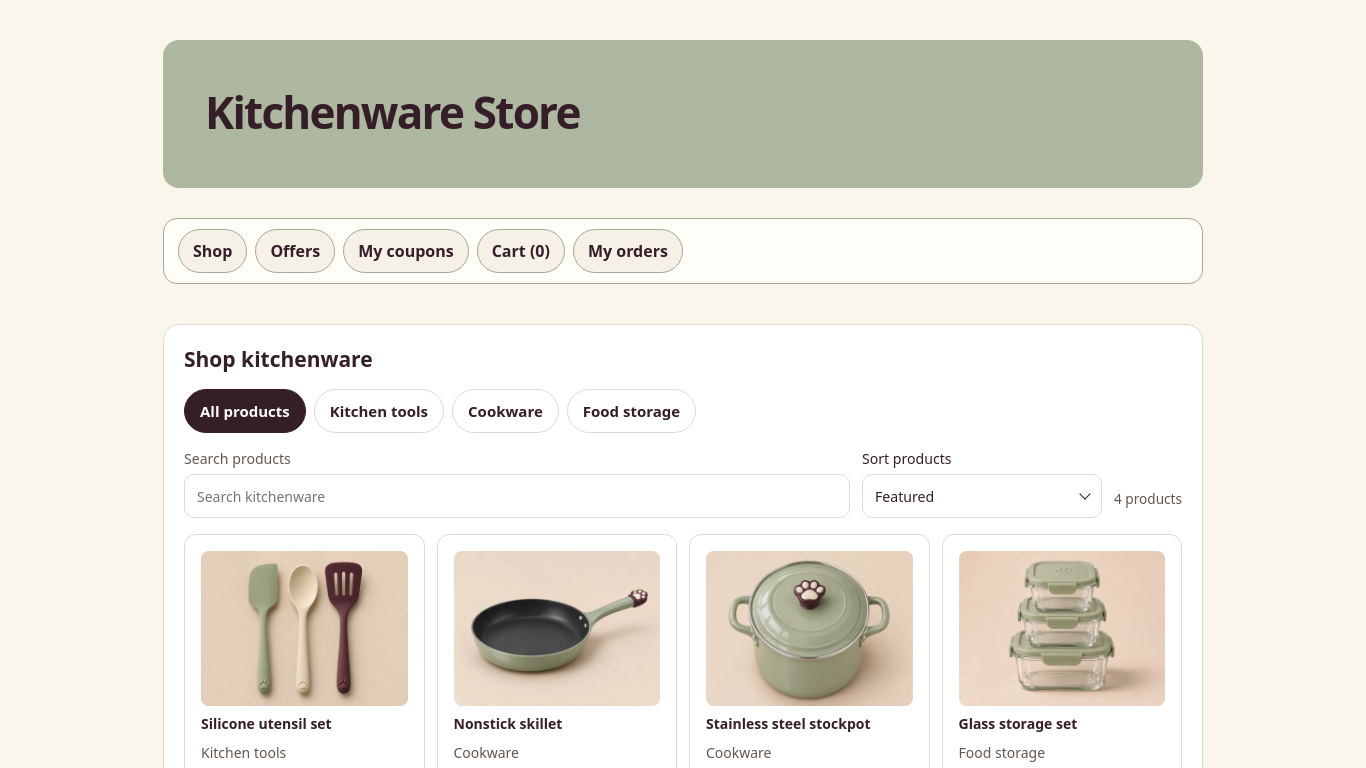
shows product specifications and adds the item from its detail dialog
Click the button with aria-label "View Nonstick skillet details" at (557, 642), box [454,551,660,733]
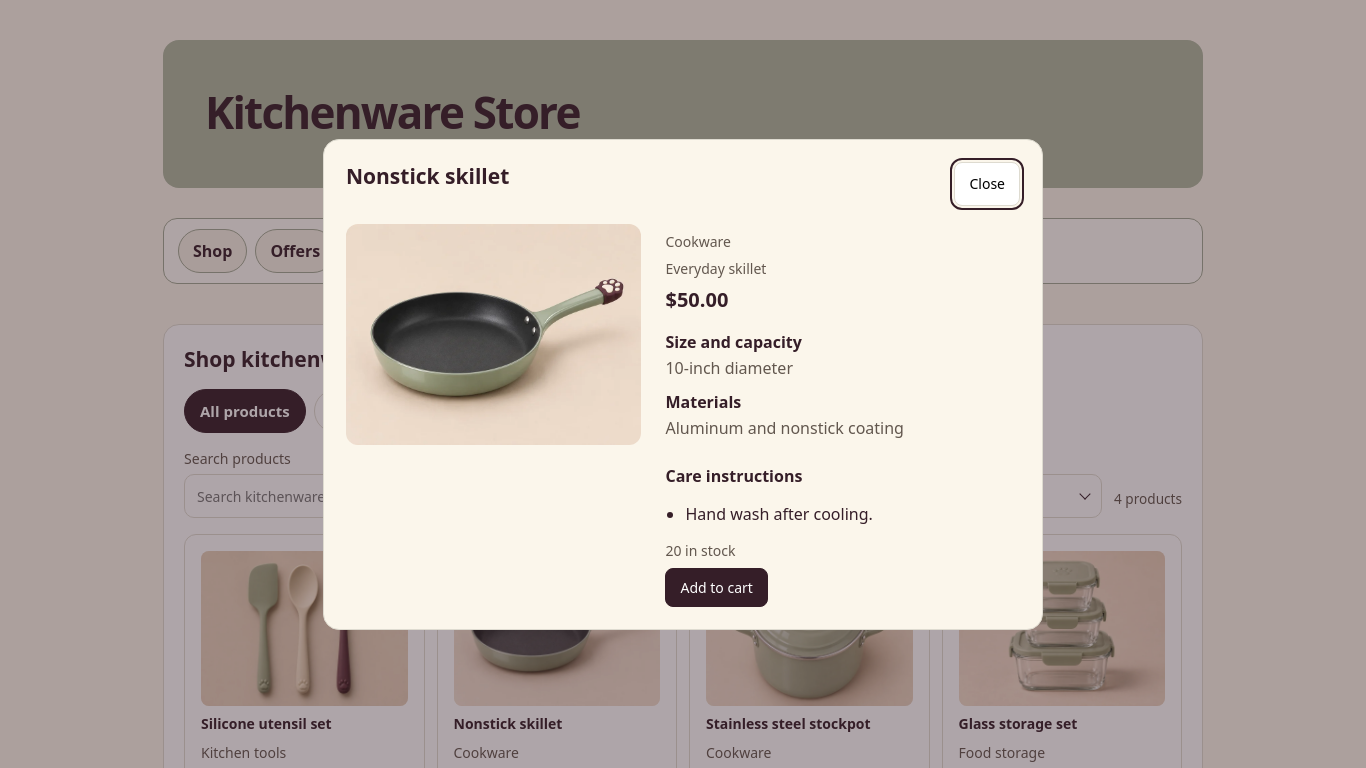
Now the text "10-inch diameter" is shown, box [666,356,793,378]
Now the list item "Hand wash after cooling." is shown, box [686,502,873,524]
Click the button "Add to cart" at (717, 587), box [666,568,768,606]
(page scrolled)
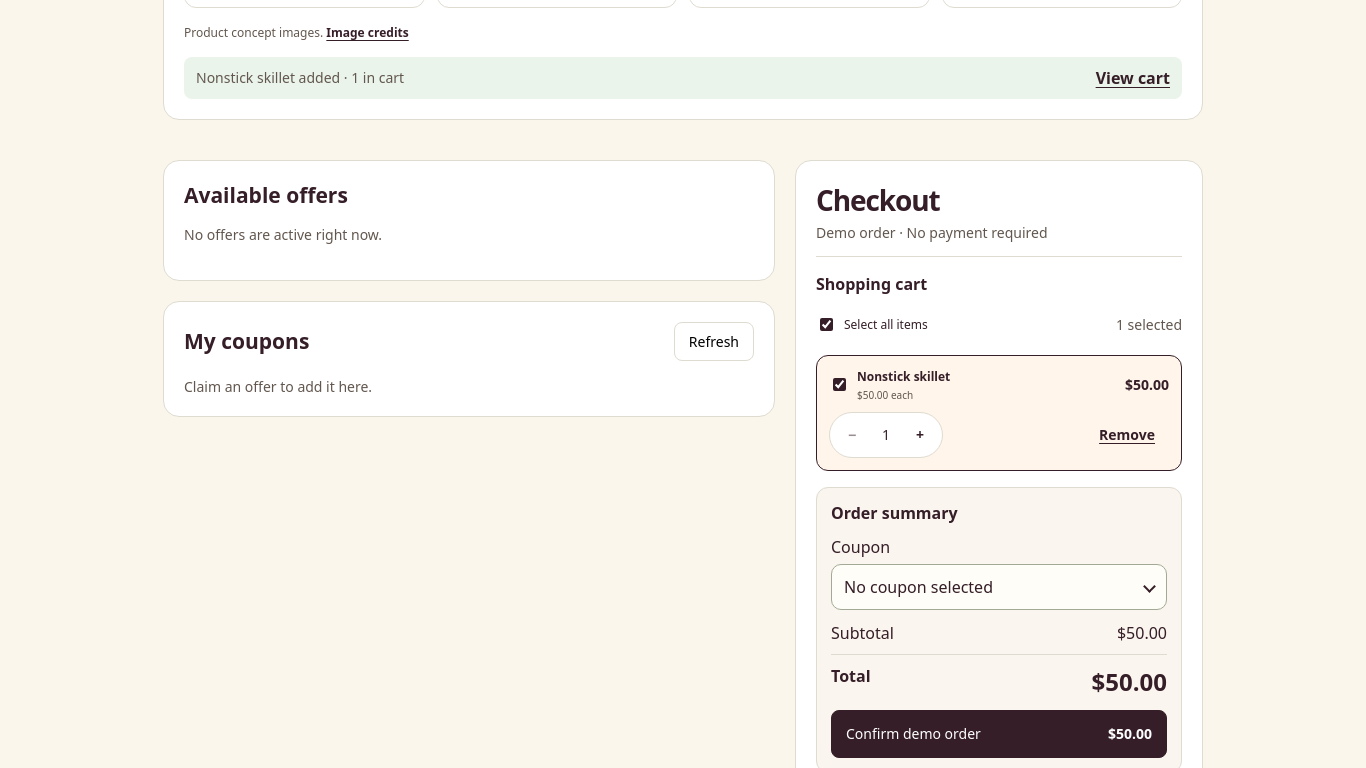
Now the dialog is gone
Now the checkbox labelled "Nonstick skillet $50.00 each" is checked, box [833,378,846,391]
